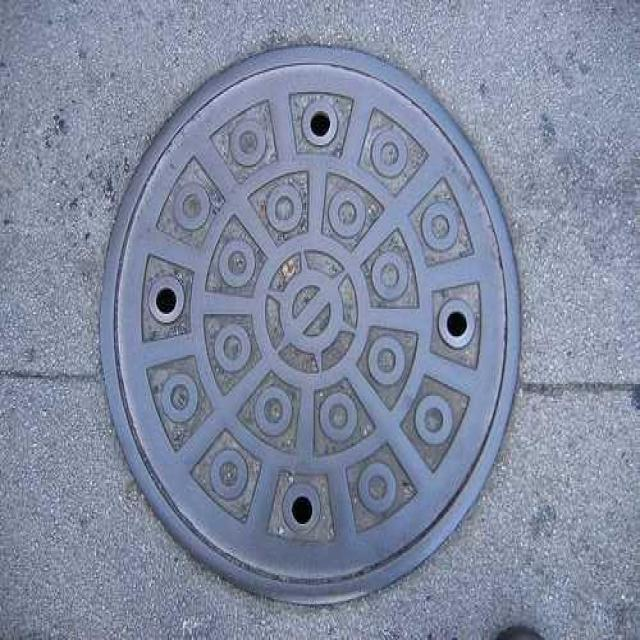manhole: (96, 46, 524, 611)
